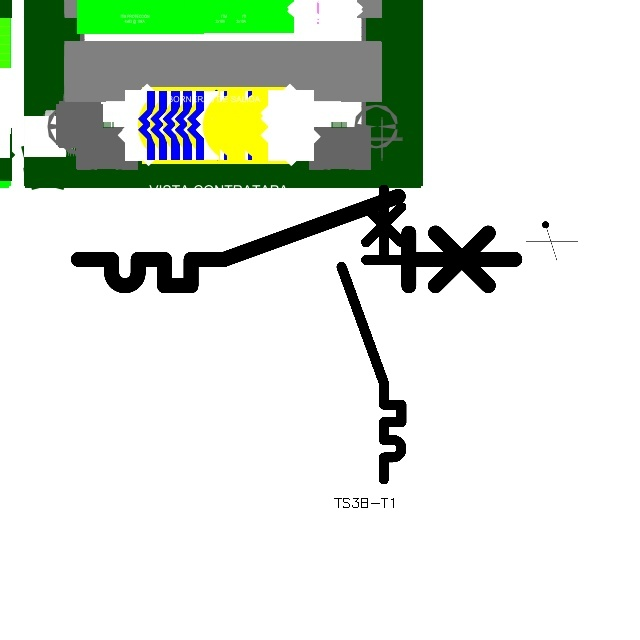interruptor_termomagnetico: (67, 185, 526, 297), (334, 182, 409, 487)
